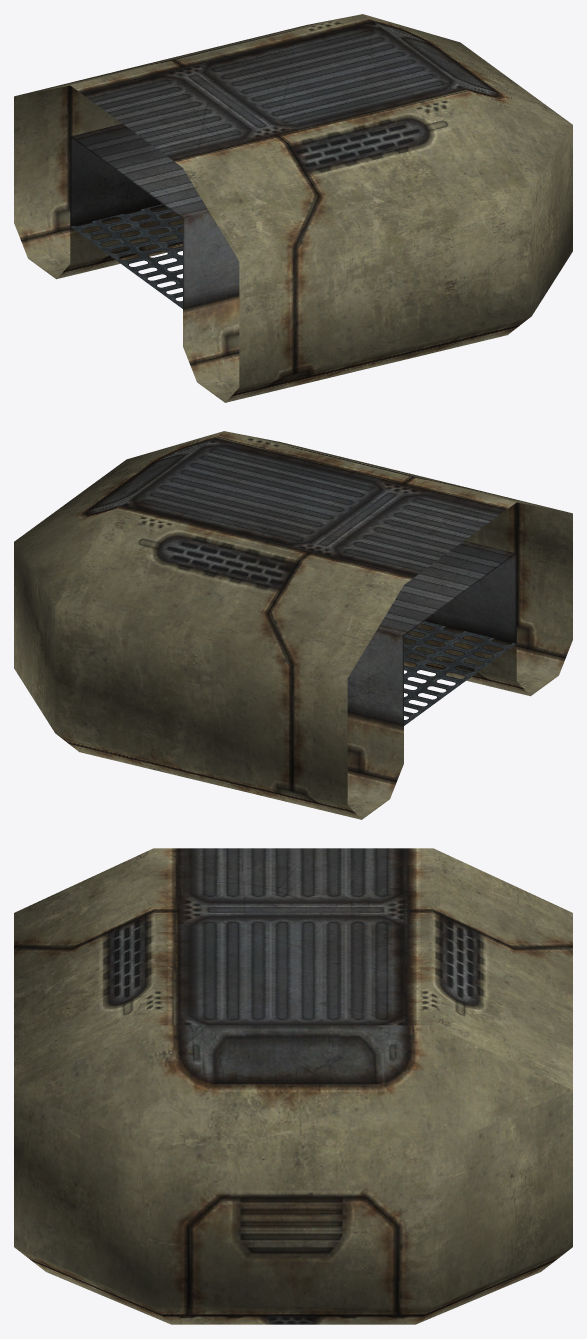
Rendered from arch_cabletube_end01.dae.
The picture shows the model from 3 angles, top to bottom: view 1: azimuth 30°, elevation 25°; view 2: azimuth 150°, elevation 25°; view 3: azimuth 270°, elevation 25°; orthographic projection. The views are drawn at different scales.
Visible parts, largest first — view 1: pCube2, pPlane2; view 2: pCube2, pPlane2; view 3: pCube2.
Boxes of the visible parts, x1,y1,x2,y2 form: pCube2: (14,14,572,402); pPlane2: (70,204,182,308); pCube2: (14,431,572,819); pPlane2: (404,621,516,725); pCube2: (14,848,572,1324).
Bounding box in the file's own units: 3.75 × 1.88 × 3.75.
Materials: 2 (2 with a texture image).
